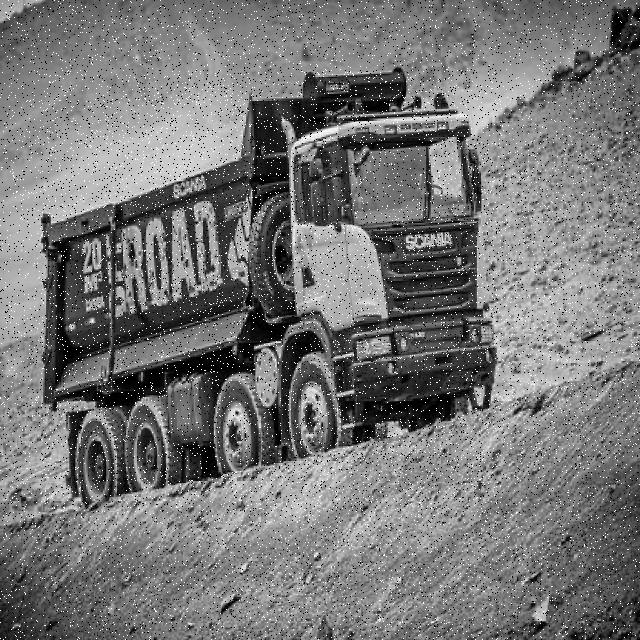Truck- Multi-Axle: (40, 70, 498, 512)
